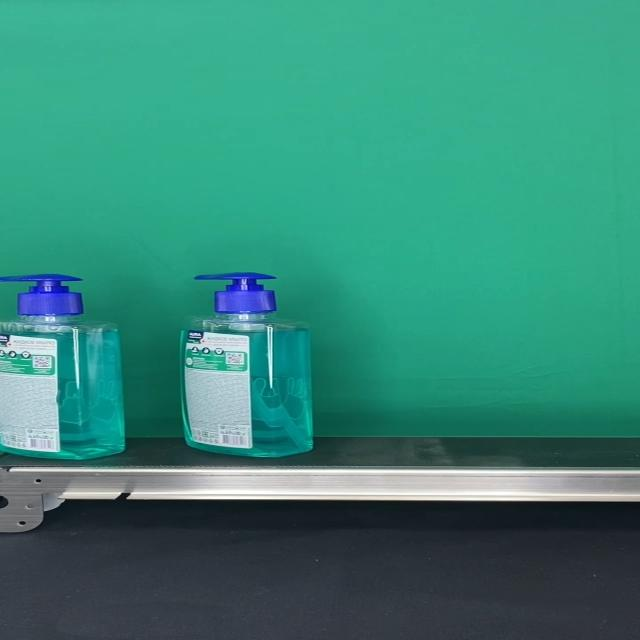Bottle: (176, 273, 312, 457), (0, 274, 126, 458)
Cap: (193, 273, 275, 315), (2, 274, 82, 316)
